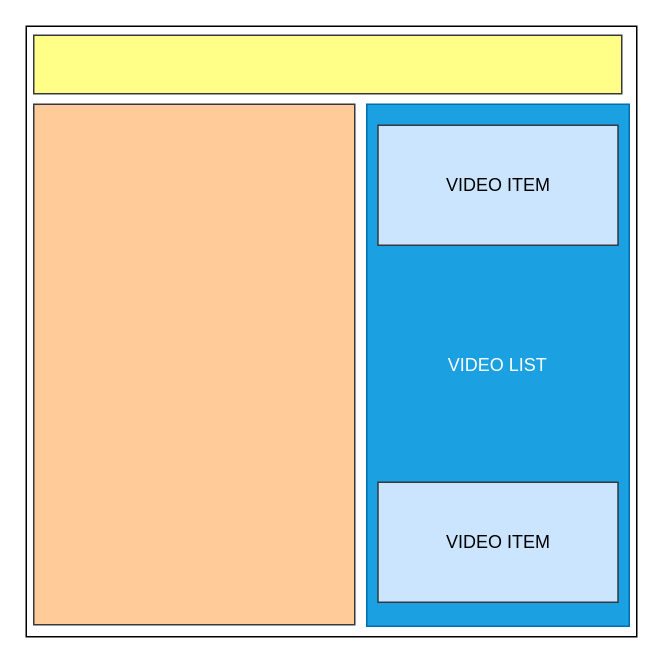
The diagram is 663 pixels wide and 663 high, and some of its shapes have lost their labels. Here are the shapes that lost their labels. From the top down, the centre of each, then its label:
point (327, 64): SEARCH BAR
point (193, 364): VIDEO AND IT'S DESCRIPTION
